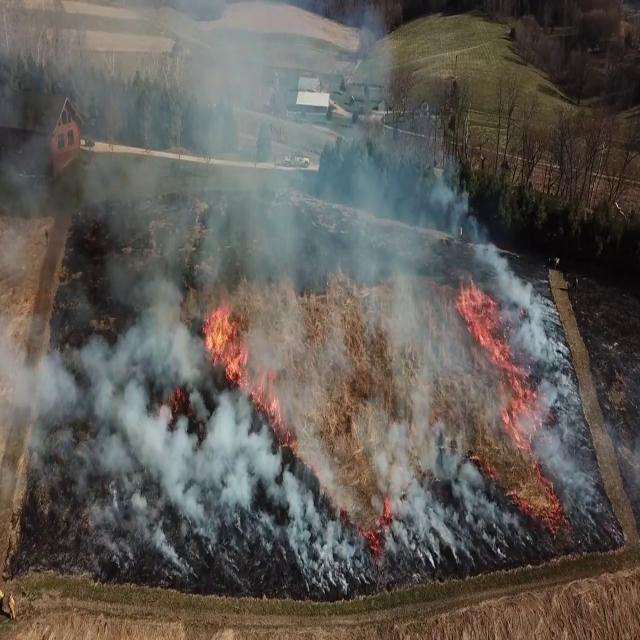Fire: (0, 108, 94, 359), (199, 287, 251, 397)
Smoke: (0, 5, 550, 571)
